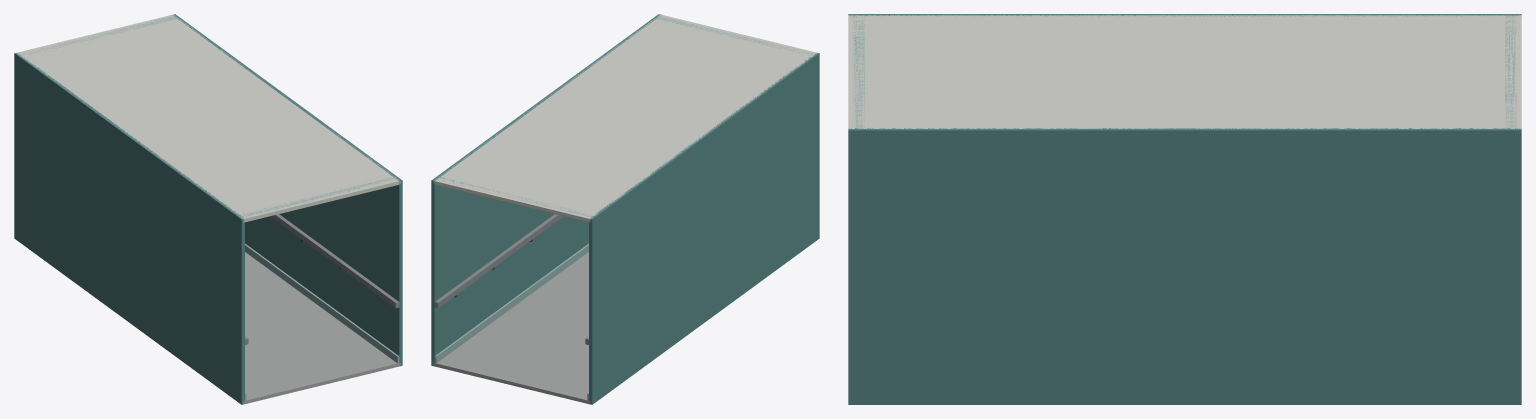
Rendered from Corridor_module.obj.
3 views of the same model, side by side, from view 1: azimuth 30°, elevation 25°; view 2: azimuth 150°, elevation 25°; view 3: azimuth 270°, elevation 25° (orthographic). The views are drawn at different scales.
Visible parts, largest first — view 1: Corridor_module; view 2: Corridor_module; view 3: Corridor_module.
Boxes of the visible parts, x1,y1,x2,y2 form: Corridor_module: (14, 14, 402, 404); Corridor_module: (431, 14, 819, 404); Corridor_module: (848, 14, 1521, 404).
Bounding box in the file's own units: 2.45 × 2.7 × 6.
